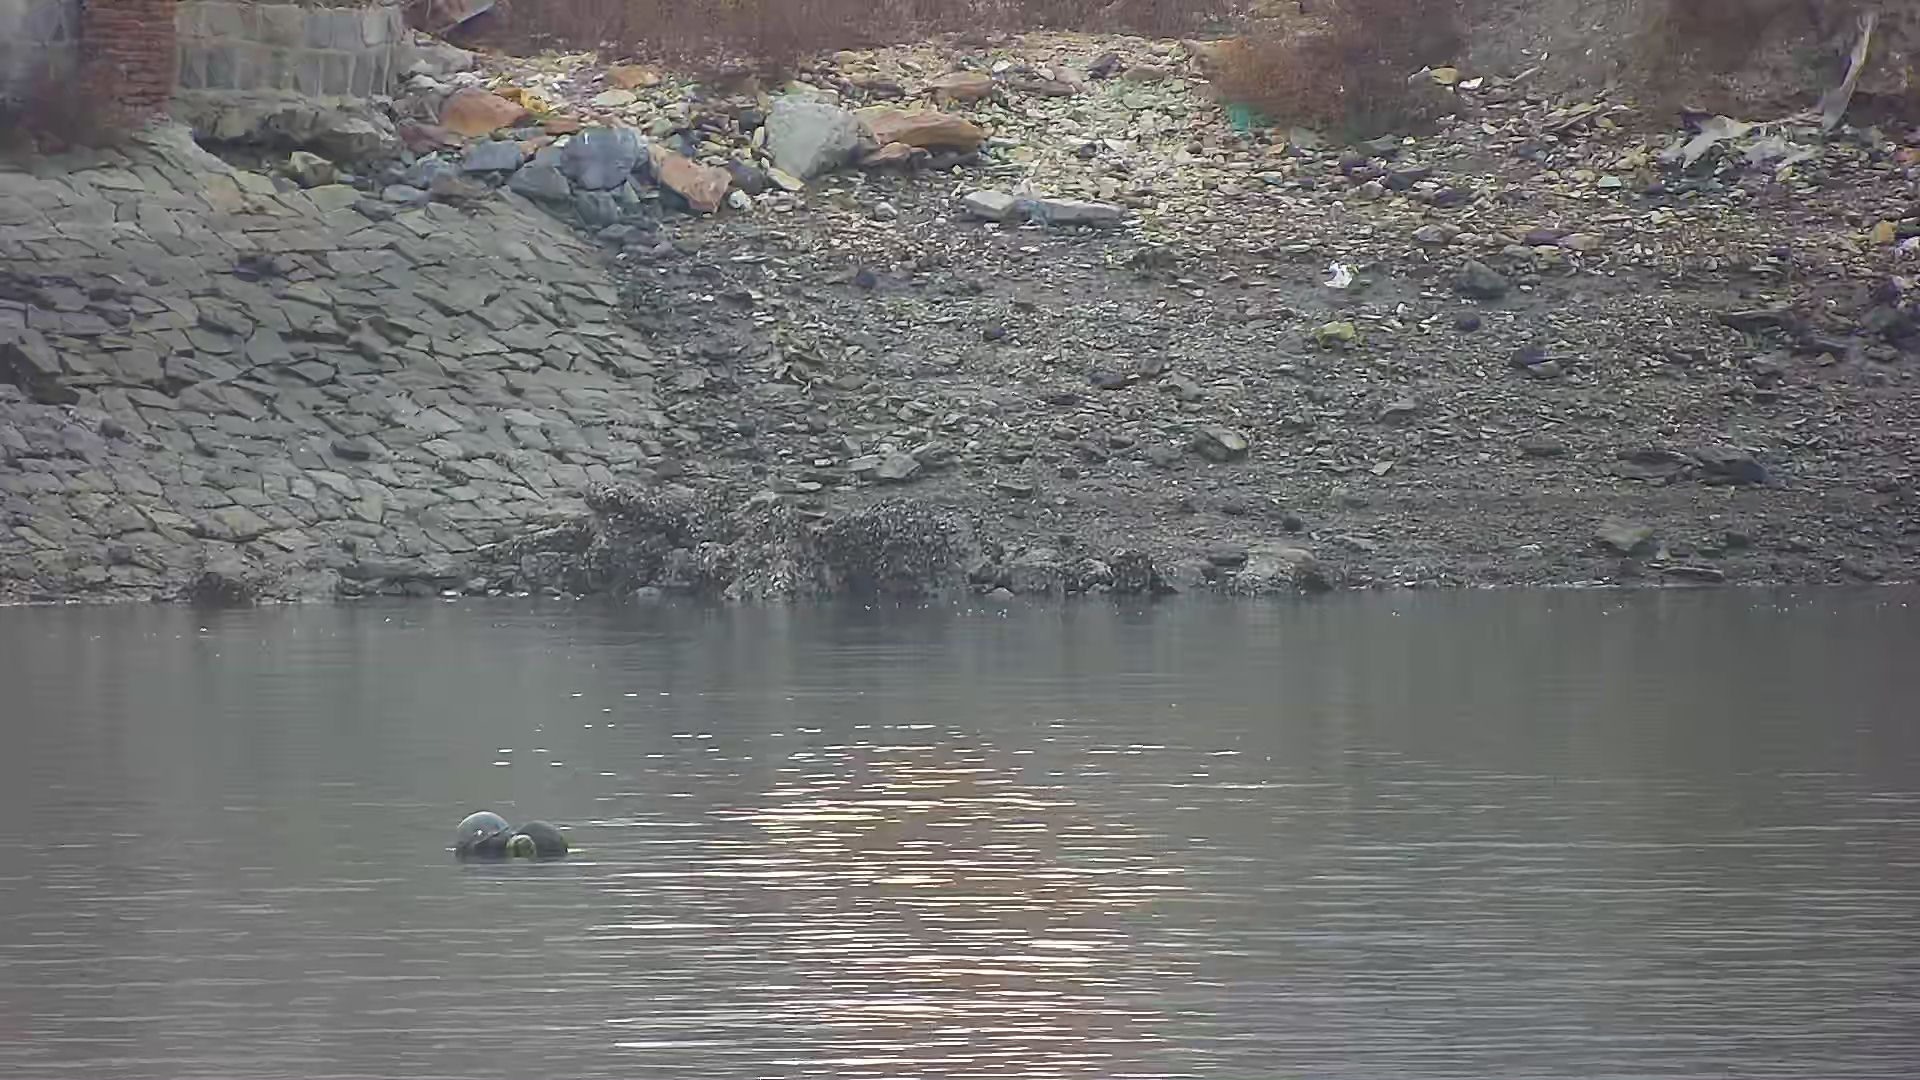rubbish: (447, 810, 582, 876)
